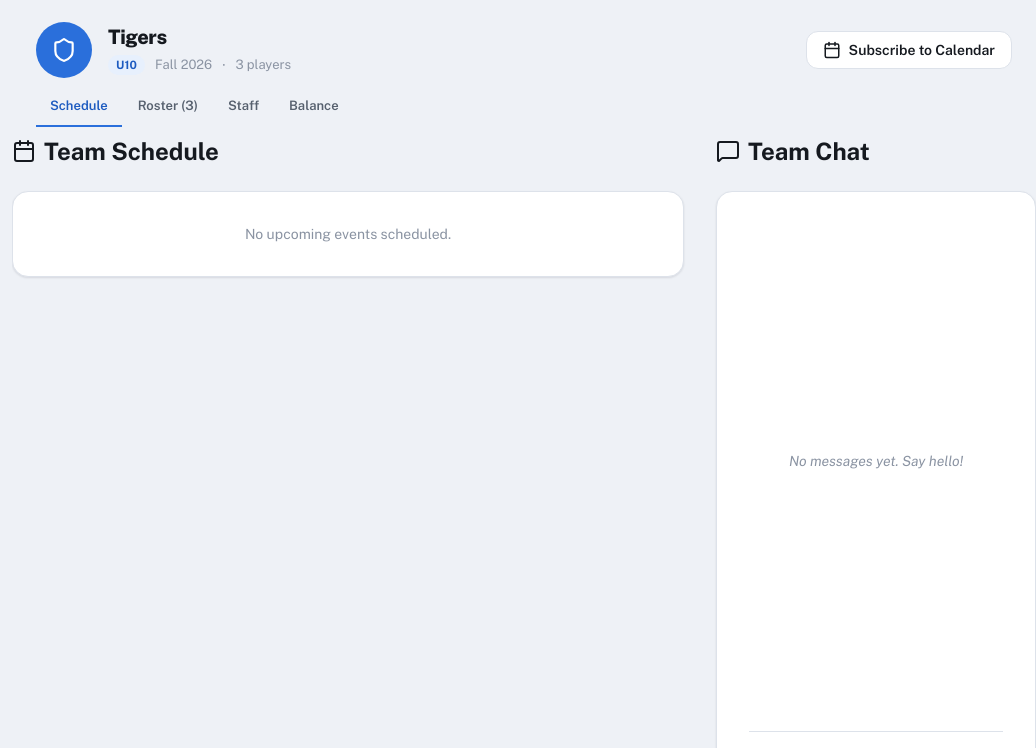
Test case: TeamRecordPage medical clearance › renders medical clearance from registration state instead of hardcoded player ids
(page scrolled)
// Roster (with medical status) lives in the Roster tab.
Click the tab "Roster (3)".
click(168, 107)  # box [124,88,212,127]
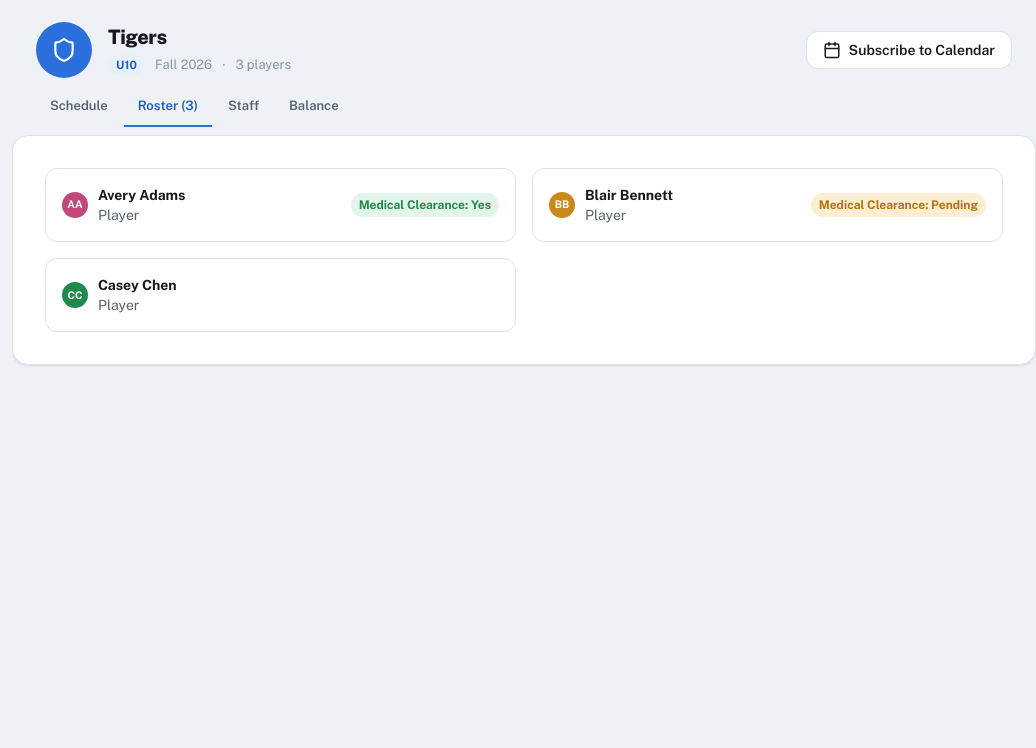
Now the text "Avery Adams" is shown, box [98,185,185,205]
Now the text "Blair Bennett" is shown, box [585,185,673,205]
Now the text "Casey Chen" is shown, box [98,275,177,295]
